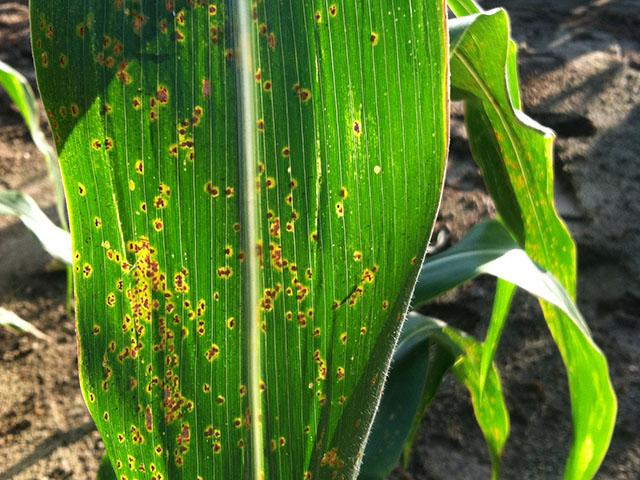Corn rust leaf: (26, 6, 451, 480)
